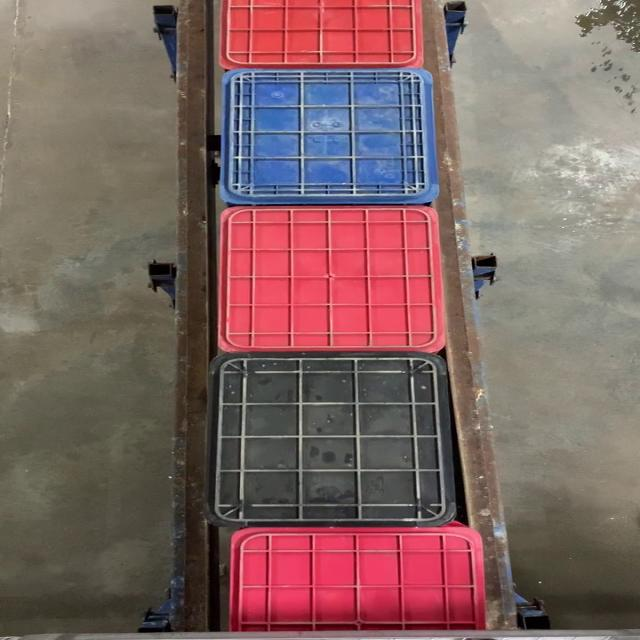Box: (206, 351, 458, 529), (212, 203, 450, 352), (219, 67, 437, 203)
